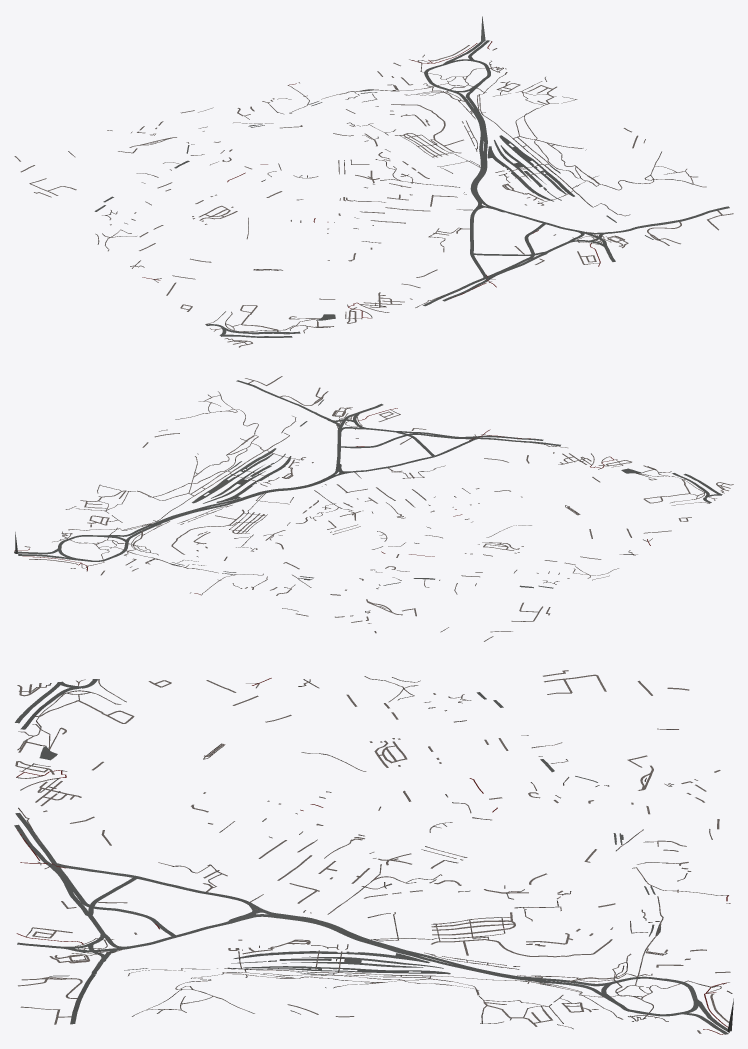
Rendered from map_10.osm_roads_service.fbx.
3 renders of one model, top to bottom at view 1: azimuth 30°, elevation 25°; view 2: azimuth 150°, elevation 25°; view 3: azimuth 270°, elevation 25°, orthographic. The views are drawn at different scales.
Parts seen in each view (by area): view 1: map_10.osm_roads_service, map_10.osm_roads_trunk; view 2: map_10.osm_roads_trunk, map_10.osm_roads_service, map_10.osm_areas_footway.003; view 3: map_10.osm_roads_trunk, map_10.osm_roads_service, map_10.osm_areas_footway.003, map_10.osm_areas_footway, map_10.osm_areas_footway.012.
Boxes of the visible parts, <box> form: map_10.osm_roads_service: <box>14,45,733,347</box>; map_10.osm_roads_trunk: <box>206,16,615,337</box>; map_10.osm_roads_trunk: <box>14,403,722,561</box>; map_10.osm_roads_service: <box>24,376,733,641</box>; map_10.osm_areas_footway.003: <box>192,448,276,503</box>; map_10.osm_roads_trunk: <box>14,679,733,1034</box>; map_10.osm_roads_service: <box>15,670,730,1033</box>; map_10.osm_areas_footway.003: <box>227,966,450,974</box>; map_10.osm_areas_footway: <box>231,956,443,968</box>; map_10.osm_areas_footway.012: <box>233,951,429,963</box>.
Bounding box in the file's own units: 142874 × 7270 × 126318.
